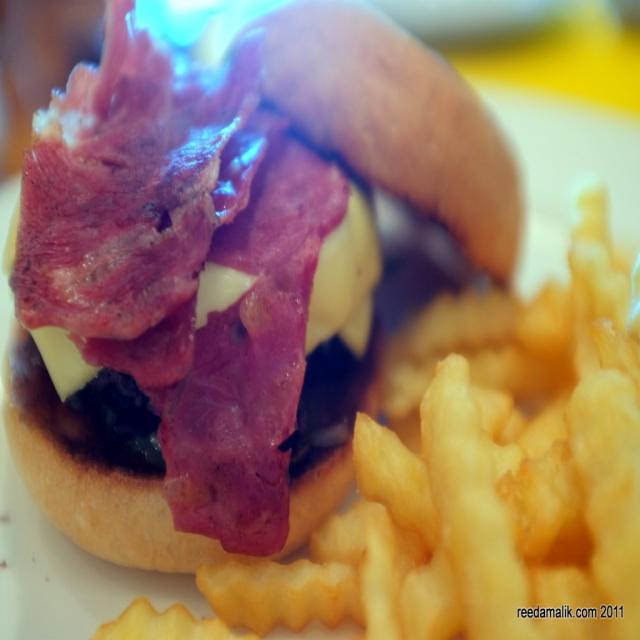French fries: (97, 193, 639, 633)
